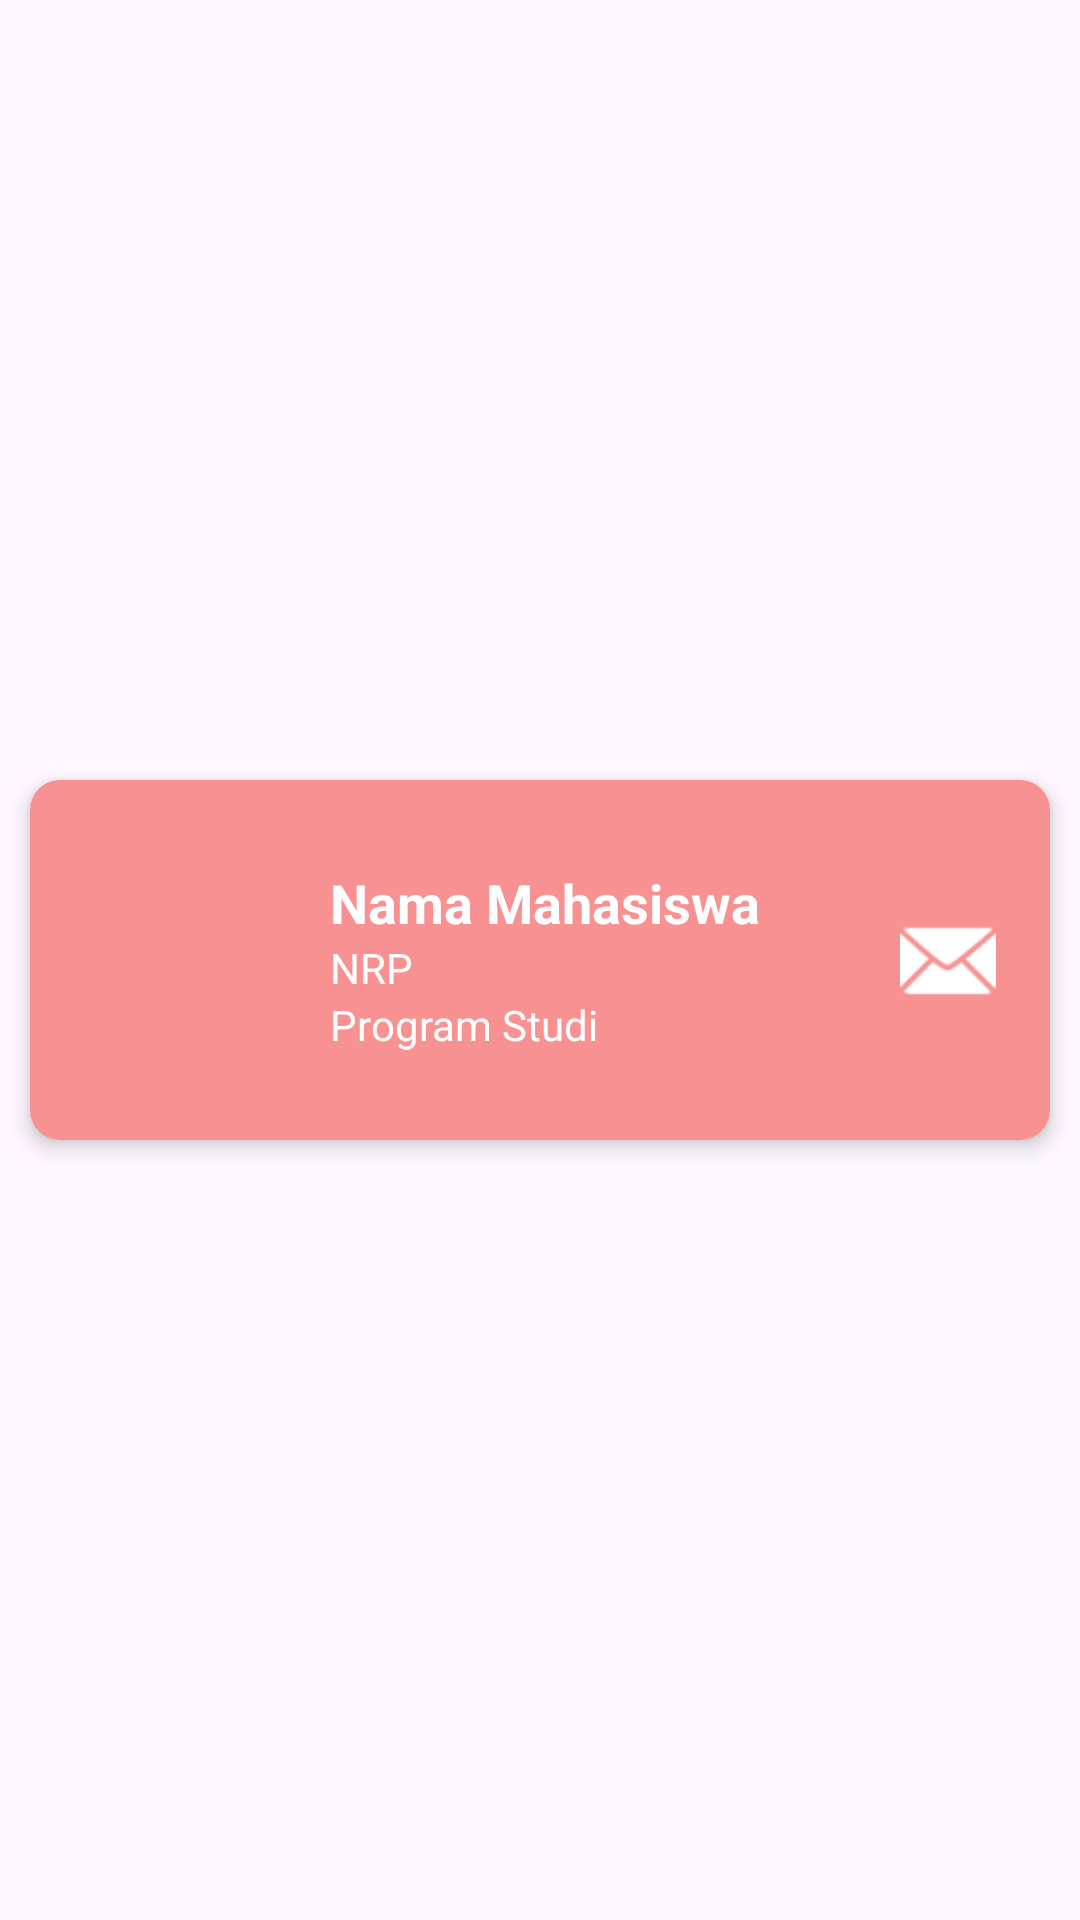

Named icons in this screenshot (1080px x 1920px) and their centers, (x=x, y=y):
Send Email: (x=948, y=961)
